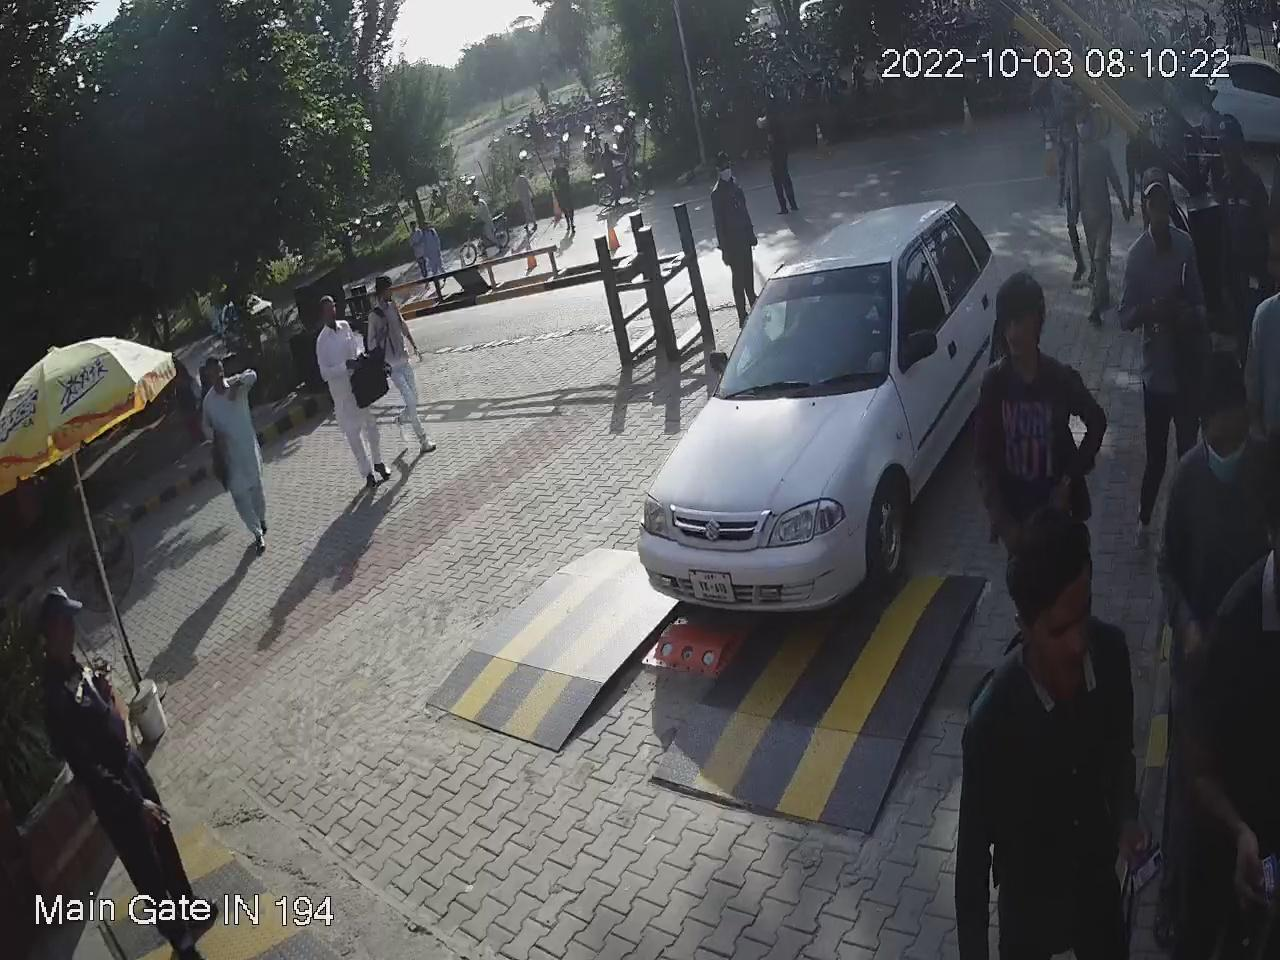windshield: (713, 257, 891, 402)
